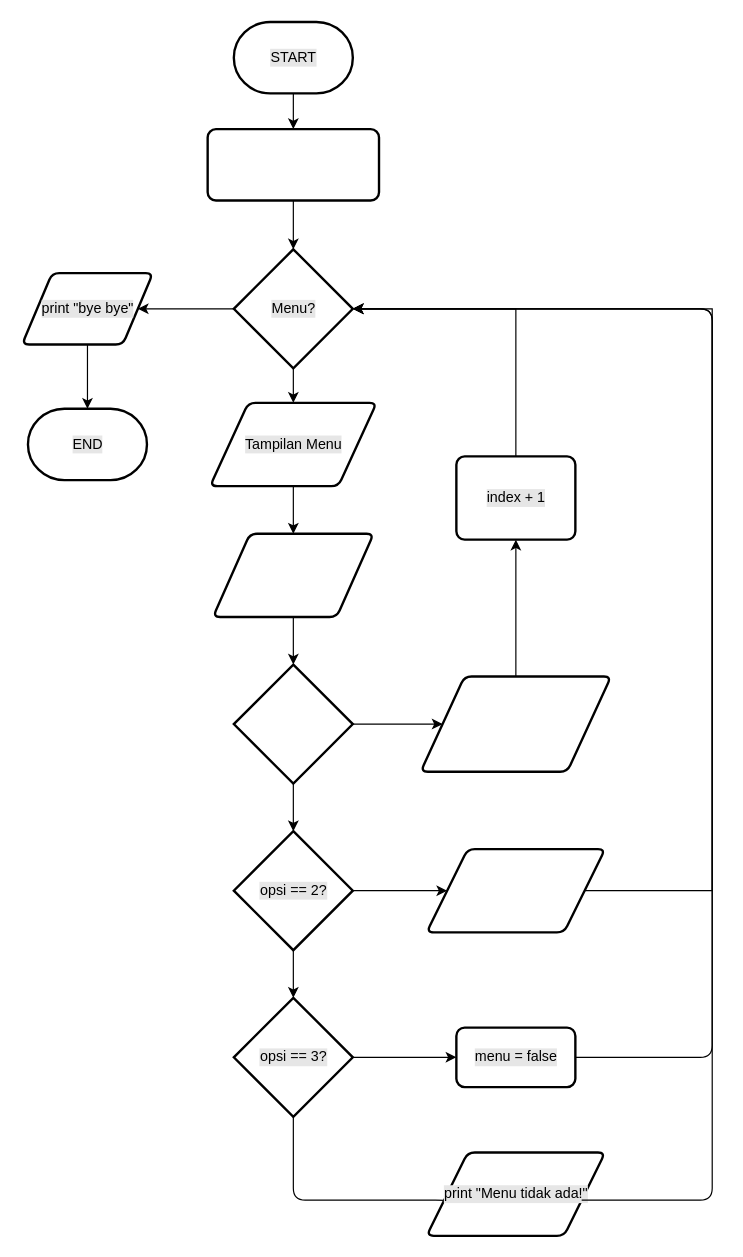
Some shapes in this 743 by 1257 pixel diagram are drawn without their labels. Each missing label, with the centre of its shape:
"input = dataMhs[index][0] input = dataMhs[index][1]" goes at (515,723).
"input = opsi" goes at (292,575).
"Menampilkan Semua isi dari array dataMHS" goes at (515,890).
"opsi == 1?" goes at (292,723).
"string dataMhs[50][2], int opsi, int index = 0, bool menu = true" goes at (293,164).
